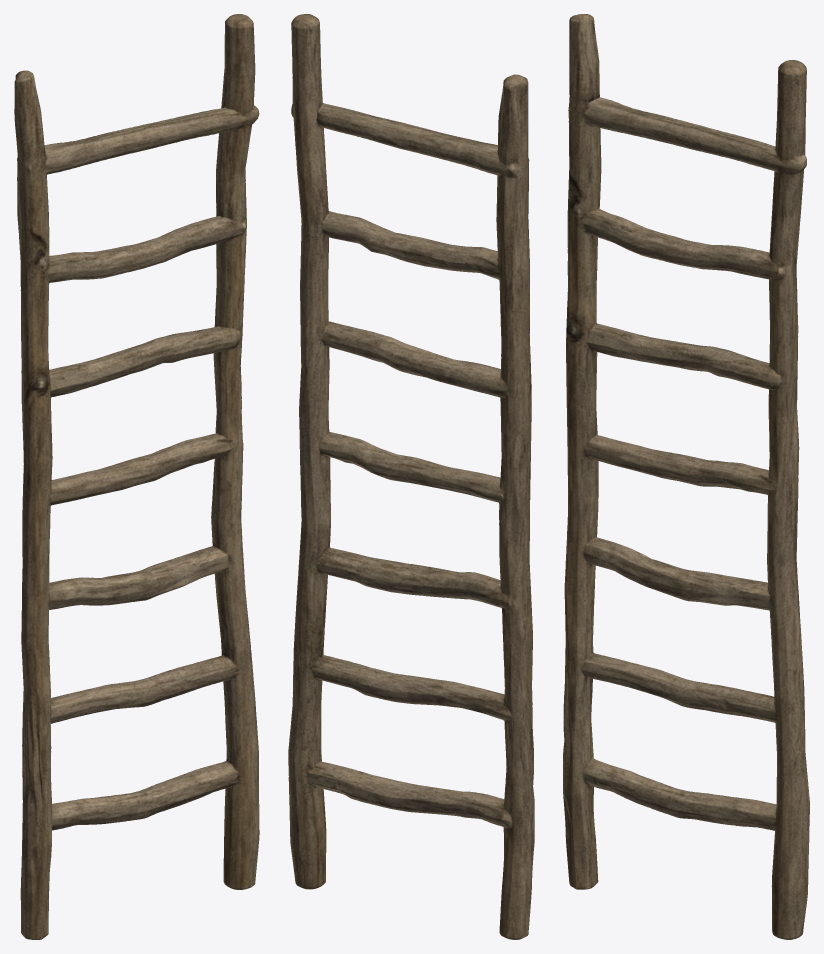
The model's file is ladder.glb.
3 views of the same model, side by side, from view 1: azimuth 30°, elevation 25°; view 2: azimuth 150°, elevation 25°; view 3: azimuth 330°, elevation 25° (orthographic).
Parts seen in each view (by area): view 1: world; view 2: world; view 3: world.
Part boxes in pixels (x1,y1,x2,y2): world: (14, 14, 259, 939); world: (288, 14, 534, 939); world: (563, 14, 809, 939).
Size of the model in its own units: 0.2874 by 0.9993 by 0.0477.
1 material, 1 textured.
